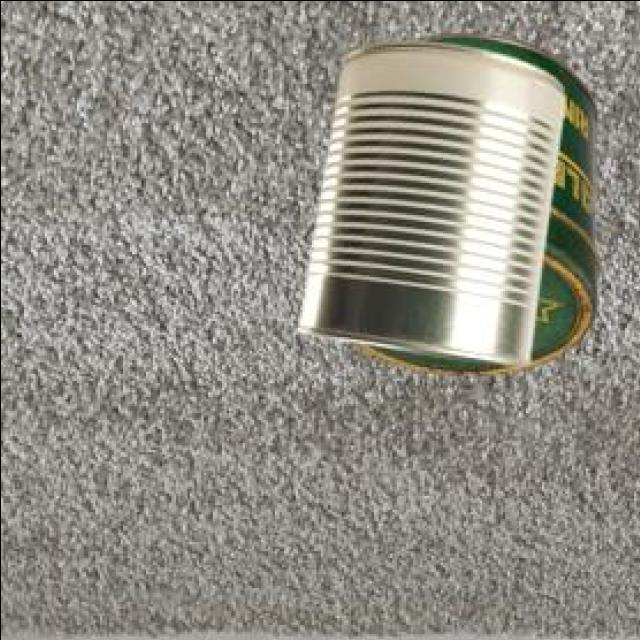logam: (300, 45, 565, 367), (358, 36, 602, 379)
